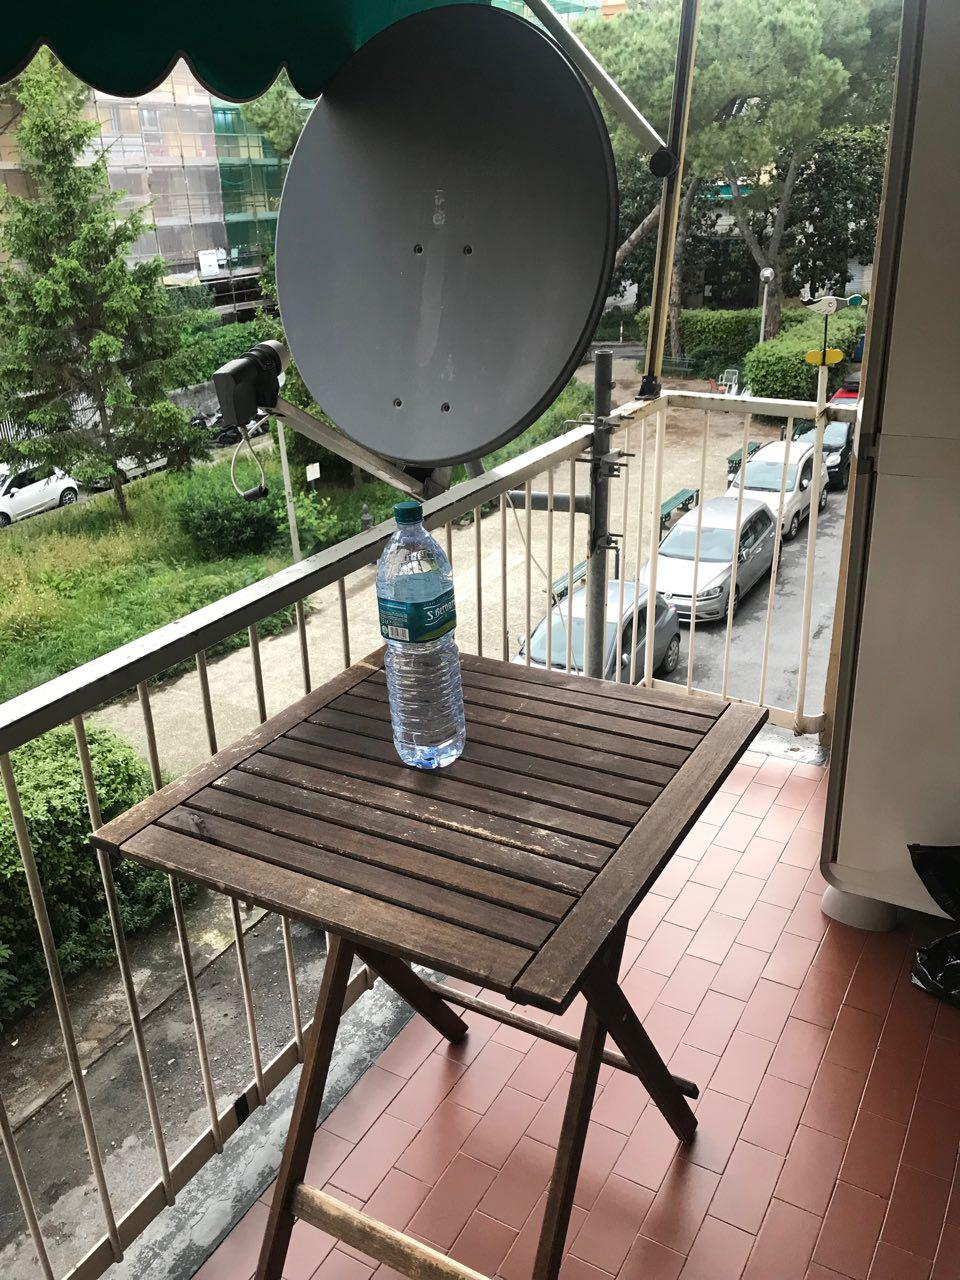san_bernardo: (375, 501, 467, 770)
